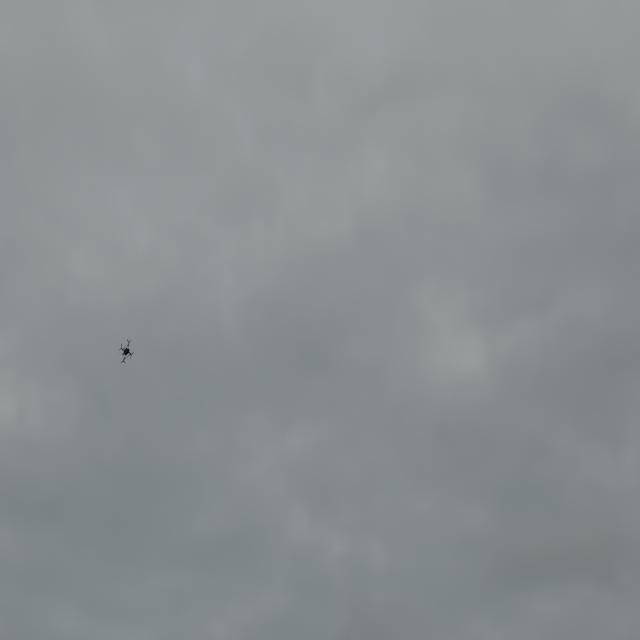drone: (118, 339, 134, 364)
